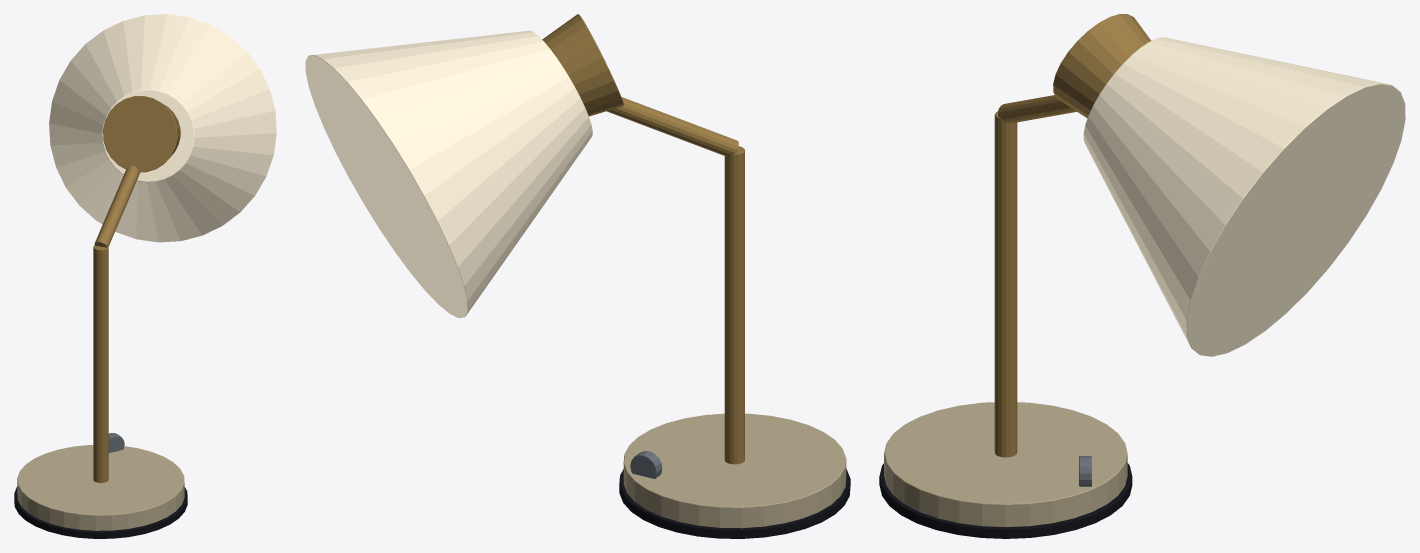
The model's file is studio_desk_lamp.glb.
The picture shows the model from 3 angles, left to right: view 1: azimuth 30°, elevation 25°; view 2: azimuth 150°, elevation 25°; view 3: azimuth 270°, elevation 25°; orthographic projection. The views are drawn at different scales.
Parts seen in each view (by area): view 1: studio_desk_lamp; view 2: studio_desk_lamp; view 3: studio_desk_lamp.
Part boxes in pixels (bbox=[...]): studio_desk_lamp: bbox=[14, 14, 276, 538]; studio_desk_lamp: bbox=[305, 14, 850, 538]; studio_desk_lamp: bbox=[879, 14, 1405, 538].
Bounding box in the file's own units: 0.5737 × 0.6182 × 0.5616.
